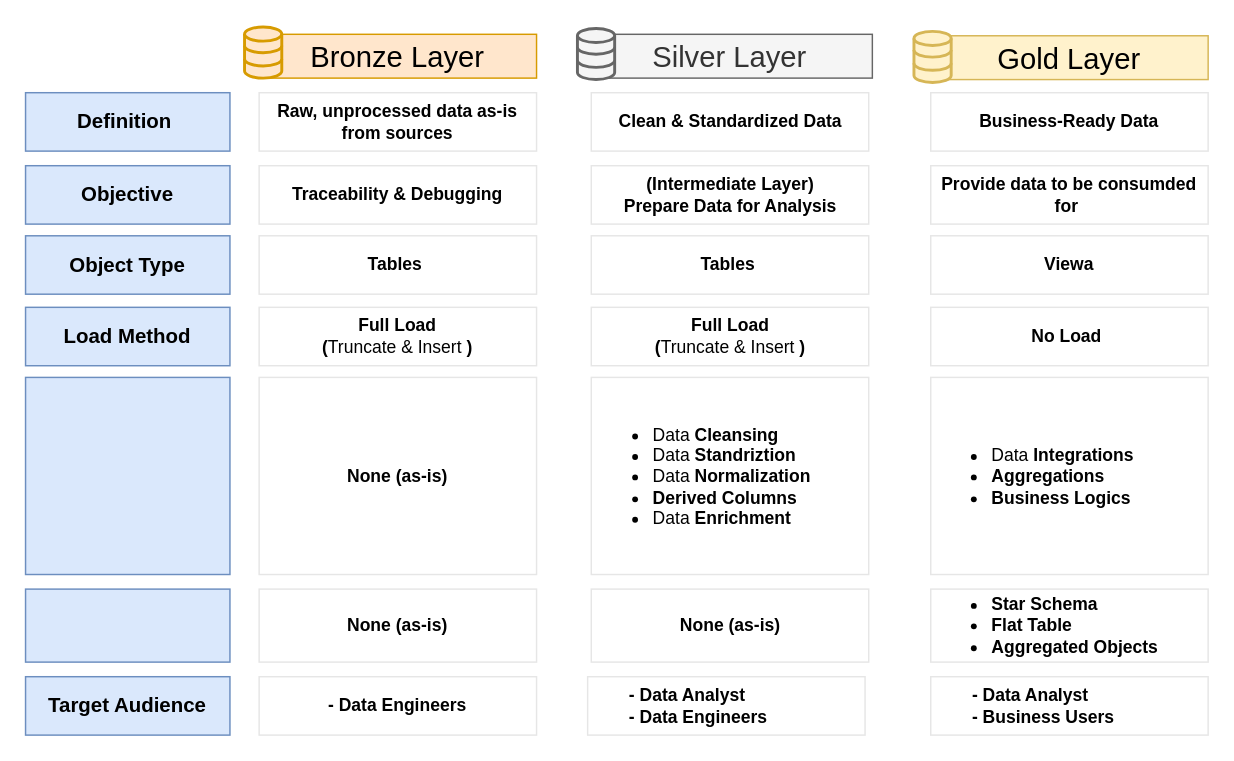
Image size: 1234x761. Some labels were removed from this diagram. The box of each missing label's shape, as (x1, y1, x2, y2) in pixels:
Data Modeling: (24, 588, 230, 662)
Data Transformation: (24, 376, 230, 575)
